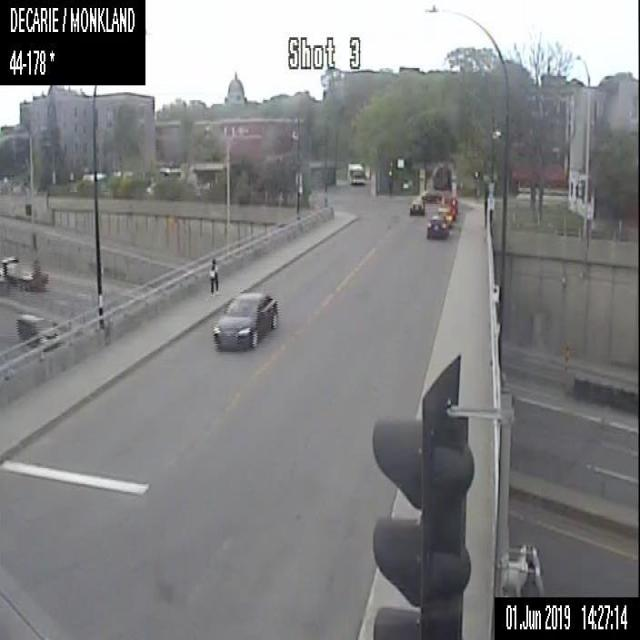bus: (347, 162, 365, 185)
pedestrian: (208, 256, 218, 295)
vehicle: (212, 288, 277, 351), (0, 253, 47, 291), (14, 309, 57, 342), (425, 215, 447, 238), (435, 204, 453, 226), (442, 192, 458, 213), (421, 188, 443, 202), (408, 197, 425, 214)
